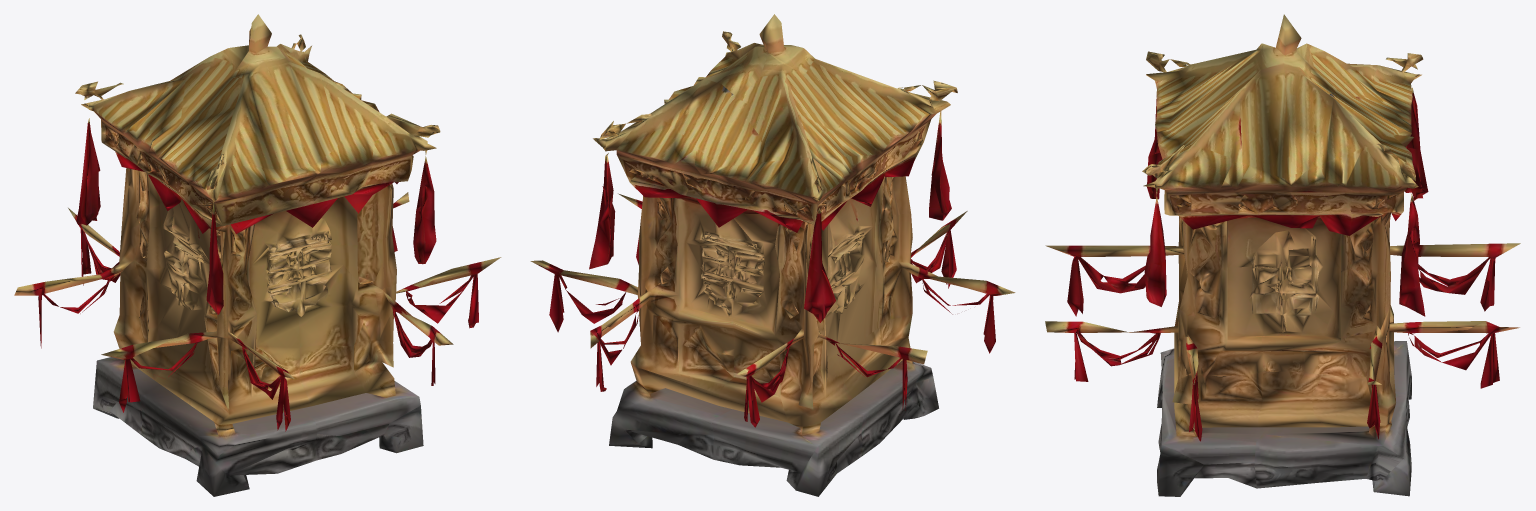
The model's file is ss_jinyu.glb.
The picture shows the model from 3 angles, left to right: view 1: azimuth 30°, elevation 25°; view 2: azimuth 150°, elevation 25°; view 3: azimuth 270°, elevation 25°; orthographic projection. The views are drawn at different scales.
Parts seen in each view (by area): view 1: tripo_node_a8a415a5-5918-4d64-93dd-50b683f07232; view 2: tripo_node_a8a415a5-5918-4d64-93dd-50b683f07232; view 3: tripo_node_a8a415a5-5918-4d64-93dd-50b683f07232.
Part boxes in pixels (x1,y1,x2,y2): tripo_node_a8a415a5-5918-4d64-93dd-50b683f07232: [14, 14, 501, 496]; tripo_node_a8a415a5-5918-4d64-93dd-50b683f07232: [530, 14, 1015, 496]; tripo_node_a8a415a5-5918-4d64-93dd-50b683f07232: [1045, 14, 1520, 496].
Size of the model in its own units: 0.9973 by 0.9992 by 0.9925.
Materials: 1 (1 with a texture image).
